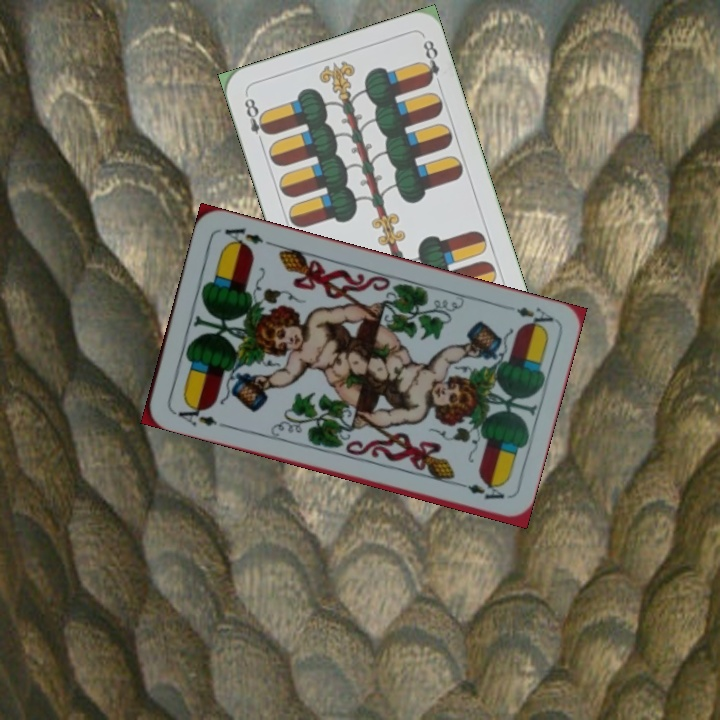E8: (240, 94, 273, 149)
EA: (169, 398, 220, 429), (512, 302, 556, 332)
